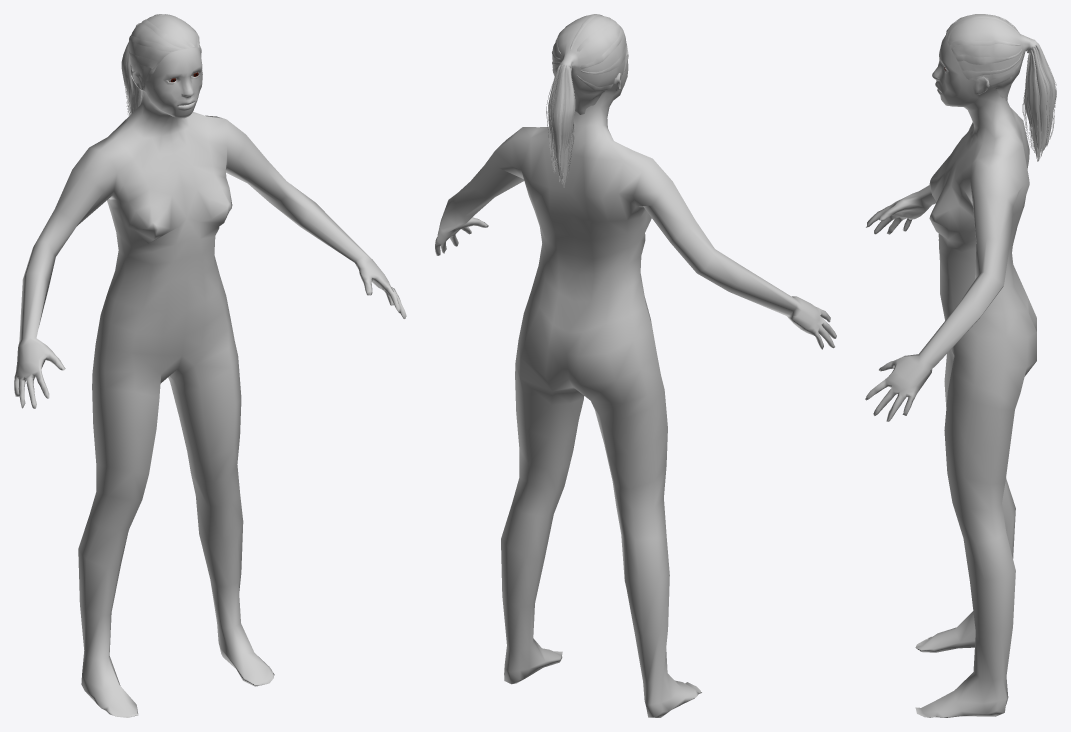
File: npc02.fbx
3 renders of one model, left to right at view 1: azimuth 30°, elevation 25°; view 2: azimuth 150°, elevation 25°; view 3: azimuth 270°, elevation 25°, orthographic. The views are drawn at different scales.
Parts seen in each view (by area): view 1: female1605Mesh, ponytail01Mesh; view 2: female1605Mesh, ponytail01Mesh; view 3: female1605Mesh, ponytail01Mesh.
Part boxes in pixels (bbox=[...]): female1605Mesh: bbox=[14, 47, 406, 717]; ponytail01Mesh: bbox=[121, 14, 201, 116]; female1605Mesh: bbox=[435, 60, 836, 717]; ponytail01Mesh: bbox=[546, 14, 628, 187]; female1605Mesh: bbox=[865, 35, 1036, 717]; ponytail01Mesh: bbox=[946, 14, 1056, 161].
Bounding box in the file's own units: 9.77 × 16.12 × 4.21.
